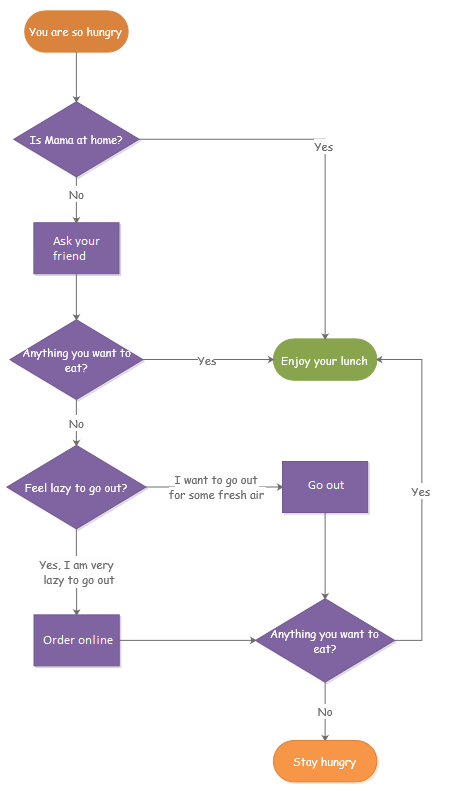arrow: (133, 133, 330, 342), (372, 354, 427, 643), (139, 354, 274, 367), (318, 507, 333, 603), (69, 523, 83, 615), (117, 635, 259, 644), (141, 483, 287, 490), (319, 678, 333, 741), (70, 395, 84, 450), (70, 50, 83, 106), (70, 271, 83, 321), (71, 172, 83, 223)
decision: (5, 443, 143, 532), (256, 597, 396, 682), (7, 319, 146, 401), (11, 98, 142, 178)
process: (29, 610, 123, 671), (30, 218, 125, 278), (278, 459, 371, 516)
terminator: (270, 333, 382, 384), (21, 8, 131, 56), (270, 737, 380, 784)
text: (265, 627, 386, 655), (21, 344, 136, 373), (168, 473, 270, 504), (35, 559, 118, 585), (22, 479, 131, 496), (51, 232, 105, 263), (24, 23, 127, 39), (27, 132, 127, 148), (278, 353, 371, 368), (39, 632, 115, 648), (289, 755, 358, 771), (305, 476, 349, 494), (66, 183, 89, 204), (409, 483, 434, 502), (310, 138, 336, 155), (65, 413, 88, 432), (315, 706, 339, 721), (196, 354, 218, 369)
